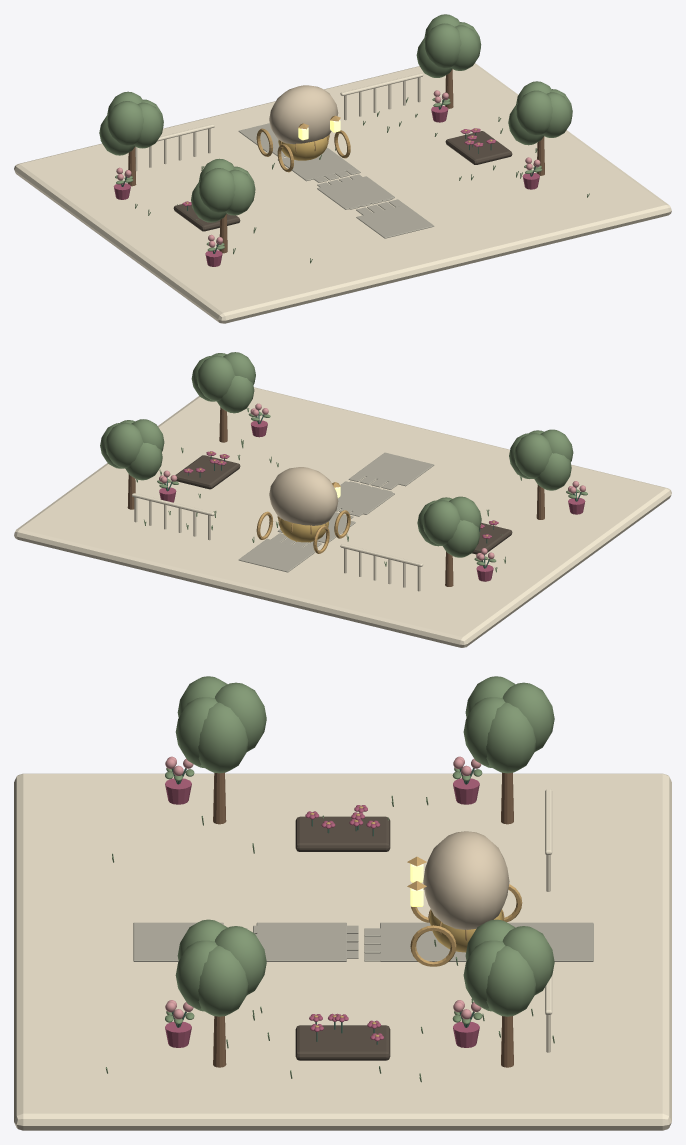
Rendered from cinder_garden-D4cn-_nA.glb.
3 renders of one model, top to bottom at view 1: azimuth 30°, elevation 25°; view 2: azimuth 150°, elevation 25°; view 3: azimuth 270°, elevation 25°, orthographic. The views are drawn at different scales.
Parts seen in each view (by area): view 1: world_cream.026, world_leaf.026, world_stone.026, FX_carriage_Story secondary.001, world_darkwood.026, world_rose.026, world_wood.026, FX_carriage_brass.026, world_Story accent.001, world_flower.026; view 2: world_cream.026, world_leaf.026, world_stone.026, FX_carriage_Story secondary.001, world_darkwood.026, world_rose.026, world_wood.026, FX_carriage_brass.026, world_Story accent.001, world_flower.026; view 3: world_cream.026, world_leaf.026, world_stone.026, FX_carriage_Story secondary.001, world_darkwood.026, world_rose.026, world_wood.026, FX_carriage_brass.026, world_flower.026, world_Story accent.001.
Boxes of the visible parts, <box> form: world_cream.026: <box>14,63,671,323</box>; world_leaf.026: <box>99,14,589,263</box>; world_stone.026: <box>238,123,434,238</box>; FX_carriage_Story secondary.001: <box>269,85,338,144</box>; world_darkwood.026: <box>173,131,512,231</box>; world_rose.026: <box>113,106,539,266</box>; world_wood.026: <box>127,69,544,253</box>; FX_carriage_brass.026: <box>256,115,350,172</box>; world_Story accent.001: <box>278,135,328,160</box>; world_flower.026: <box>116,90,540,247</box>; world_cream.026: <box>14,387,671,647</box>; world_leaf.026: <box>100,352,587,581</box>; world_stone.026: <box>238,452,434,572</box>; FX_carriage_Story secondary.001: <box>269,467,338,525</box>; world_darkwood.026: <box>175,455,512,554</box>; world_rose.026: <box>159,420,585,581</box>; world_wood.026: <box>127,407,544,586</box>; FX_carriage_brass.026: <box>256,482,350,553</box>; world_Story accent.001: <box>278,517,328,542</box>; world_flower.026: <box>159,403,585,560</box>; world_cream.026: <box>14,773,671,1130</box>; world_leaf.026: <box>105,676,554,1082</box>; world_stone.026: <box>133,922,593,961</box>; FX_carriage_Story secondary.001: <box>423,831,509,929</box>; world_darkwood.026: <box>295,816,390,1060</box>; world_rose.026: <box>165,778,479,1047</box>; world_wood.026: <box>213,772,513,1067</box>; FX_carriage_brass.026: <box>407,856,522,966</box>; world_flower.026: <box>165,756,481,1019</box>; world_Story accent.001: <box>429,910,502,952</box>.
Size of the model in its own units: 20 by 4.14 by 16.
